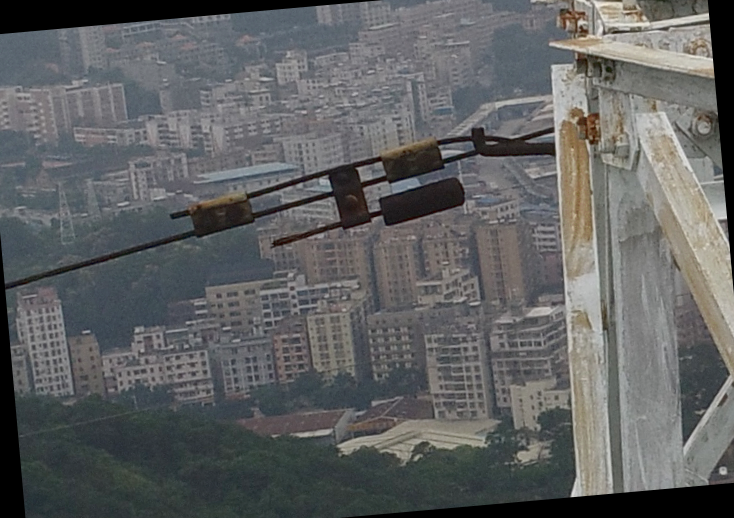damper_defect: (264, 156, 467, 257)
